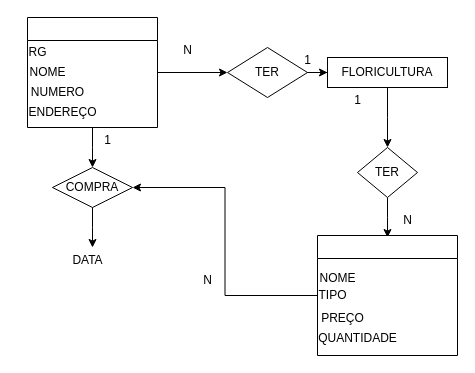
The diagram is 475 pixels wide and 373 high, and some of its shapes have lost their labels. Here are the shapes that lost their labels. From the top down, the box of each, then its label:
(26, 16, 158, 128): CLIENTE
(316, 234, 458, 356): PRODUTO
